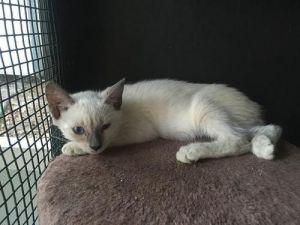siamese: (42, 74, 129, 163)
